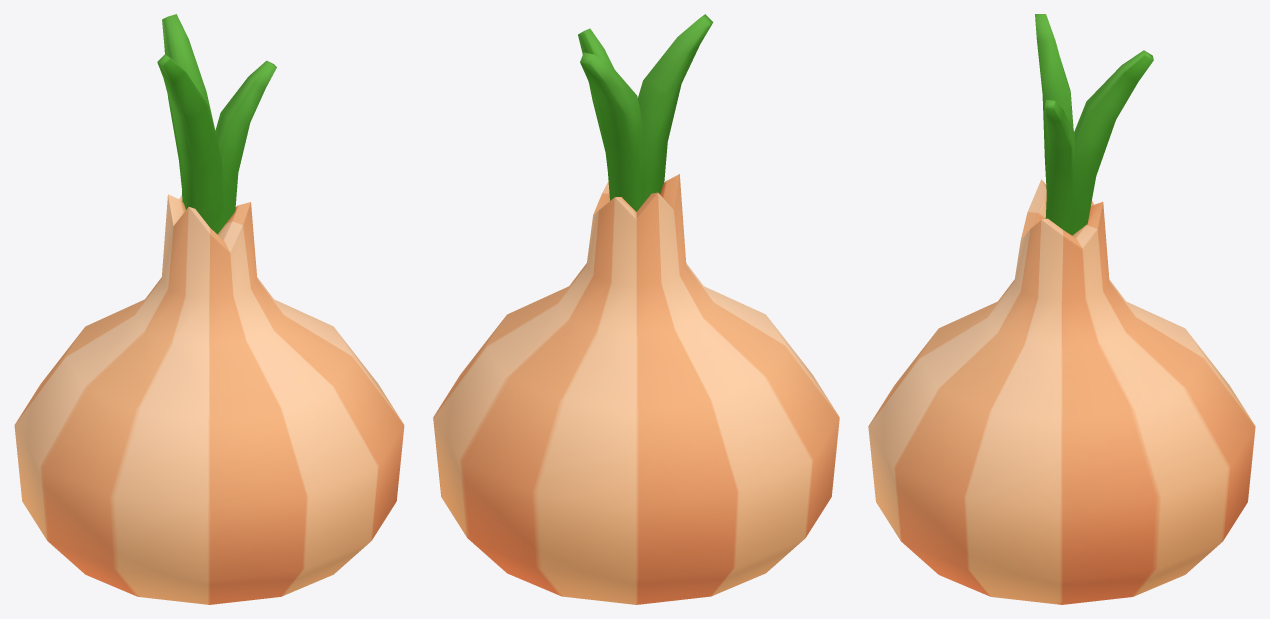
The model's file is Food_Vegetables_Onion.gltf.
The picture shows the model from 3 angles, left to right: view 1: azimuth 30°, elevation 25°; view 2: azimuth 150°, elevation 25°; view 3: azimuth 270°, elevation 25°; orthographic projection. The views are drawn at different scales.
Parts seen in each view (by area): view 1: Food_Vegetables_Onion; view 2: Food_Vegetables_Onion; view 3: Food_Vegetables_Onion.
Boxes of the visible parts, box(x1,y1,x2,y2) form: Food_Vegetables_Onion: box(14, 14, 404, 604); Food_Vegetables_Onion: box(433, 14, 839, 604); Food_Vegetables_Onion: box(868, 14, 1255, 604).
Bounding box in the file's own units: 0.123 × 0.1946 × 0.123.
Materials: 1 (1 with a texture image).
